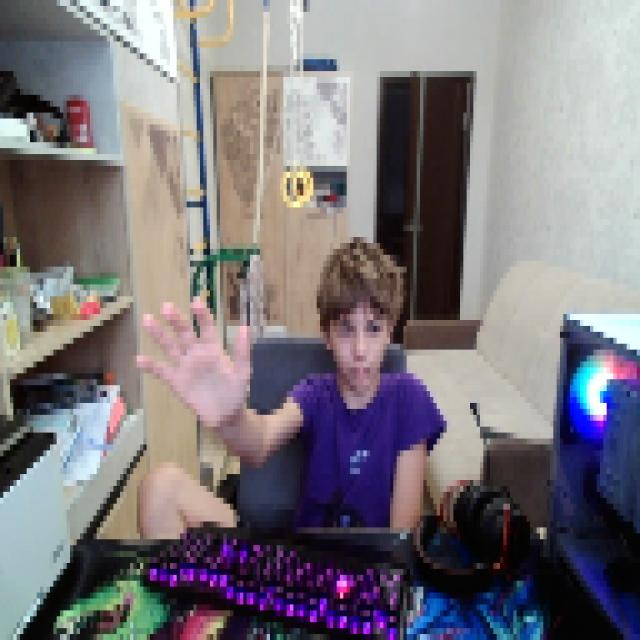hand: (133, 285, 250, 422)
